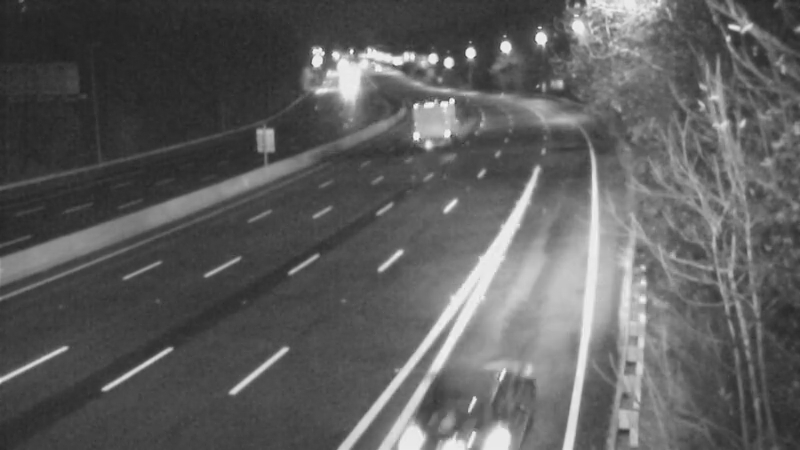vehicle: (406, 347, 516, 450), (419, 88, 469, 138), (321, 62, 371, 112)
